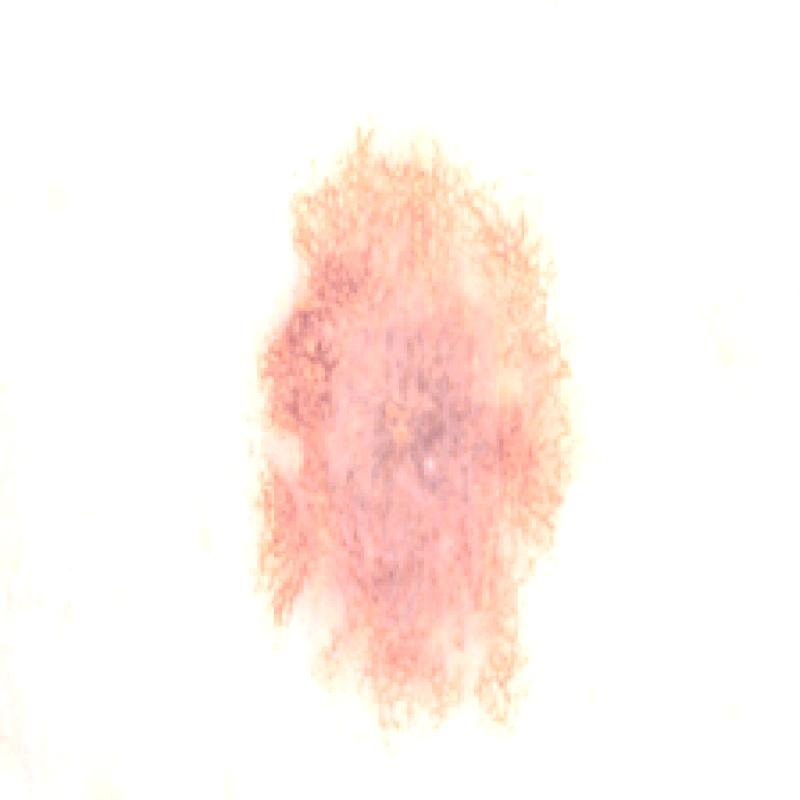benign: (232, 112, 623, 744)
